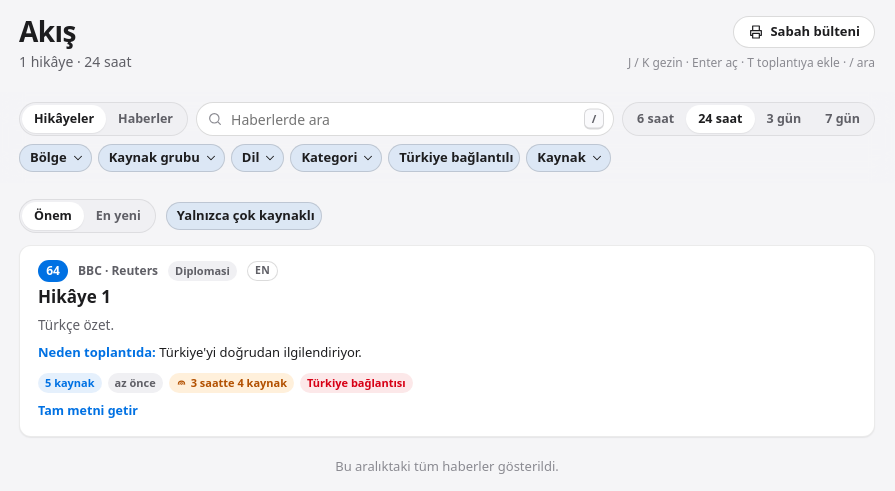
Turkish and English › shows the interface language and switches a card to the other one
The image size is (895, 491).
What coordinates should you click on to do the following:
click the button with aria-label "Göster: İngilizce"
I would click on:
 (263, 271)
Its box is [247, 261, 278, 281].
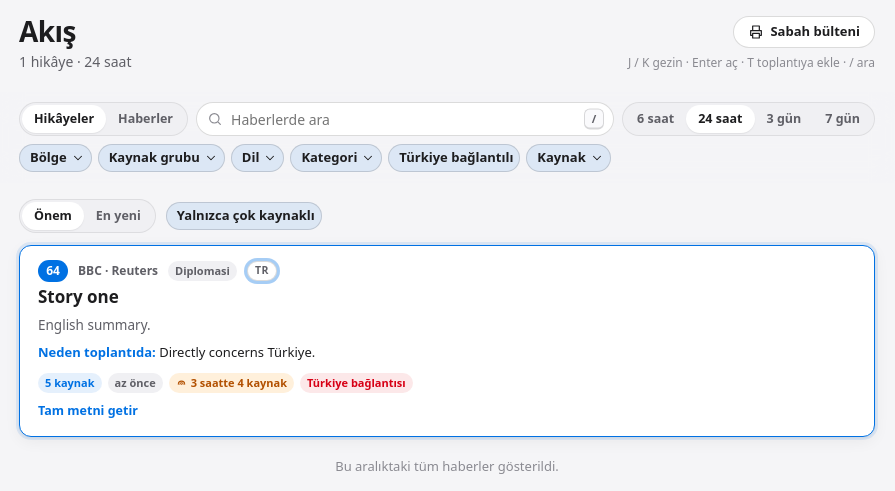
Now the button "Story one" is shown, box [38, 286, 119, 309]
Now the button "English summary." is shown, box [38, 316, 151, 334]
What coordinates should you click on to do the following:
click the button with aria-label "Göster: Türkçe"
I would click on:
 (262, 271)
Its box is [247, 261, 277, 281].
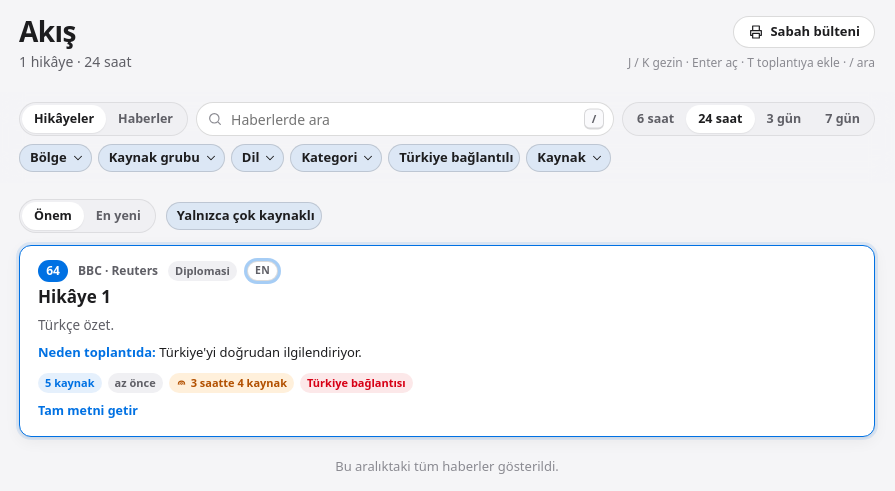
Now the button "Hikâye 1" is shown, box [38, 286, 111, 309]
